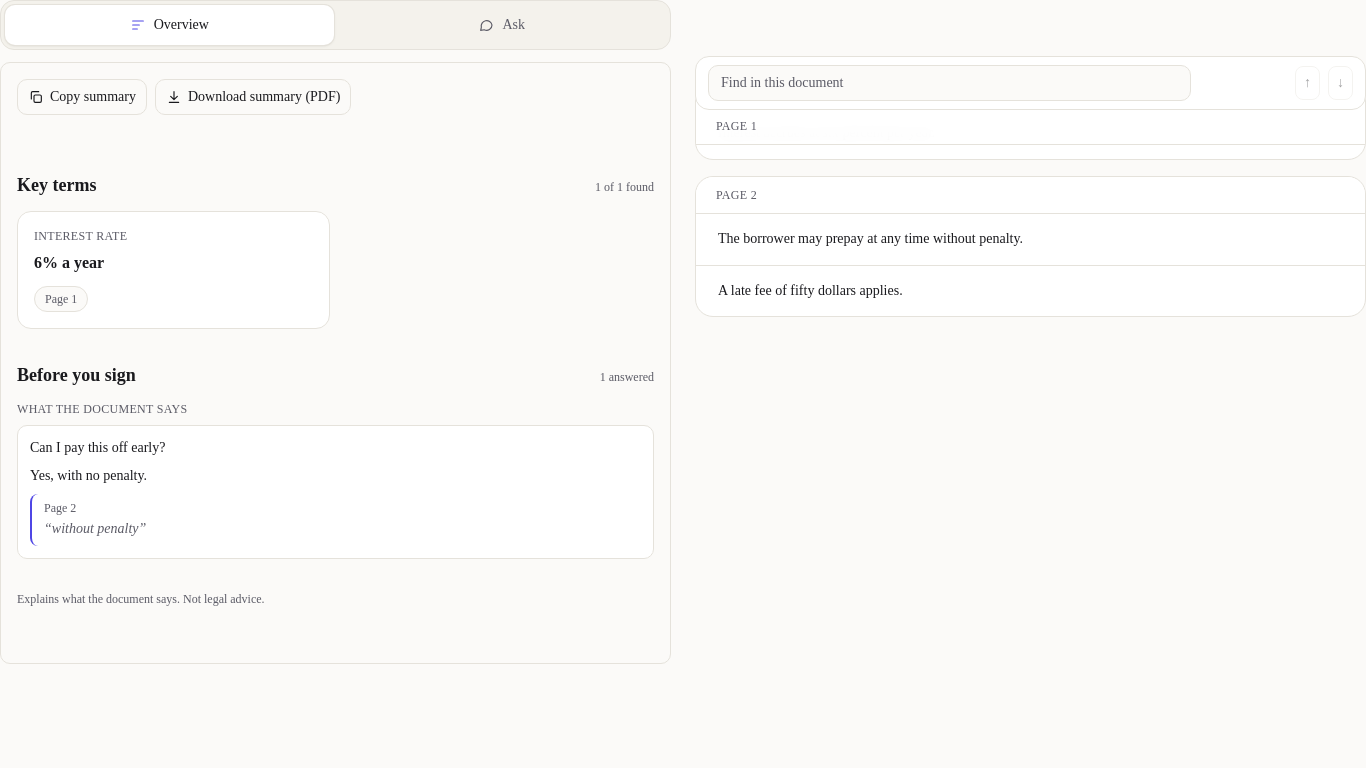
Scenario: DocumentWorkspace tabs › switches to the chat when Ask is chosen, and back
Click the tab "Ask". click: (502, 25)
box: [338,5,666,45]
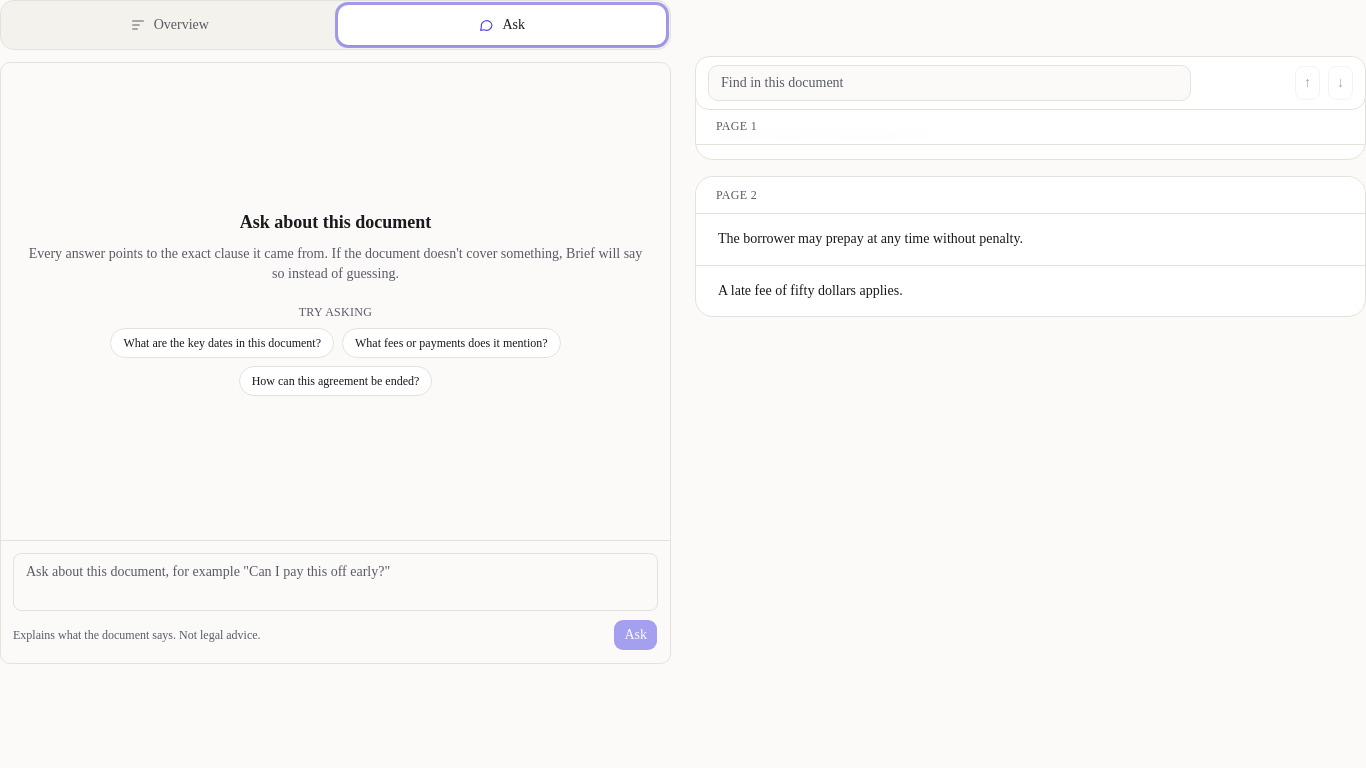
Expected: the text box named "Your question" is shown, [13,553,658,611]
Click the tab "Overview". click: (169, 25)
box: [5,5,334,45]
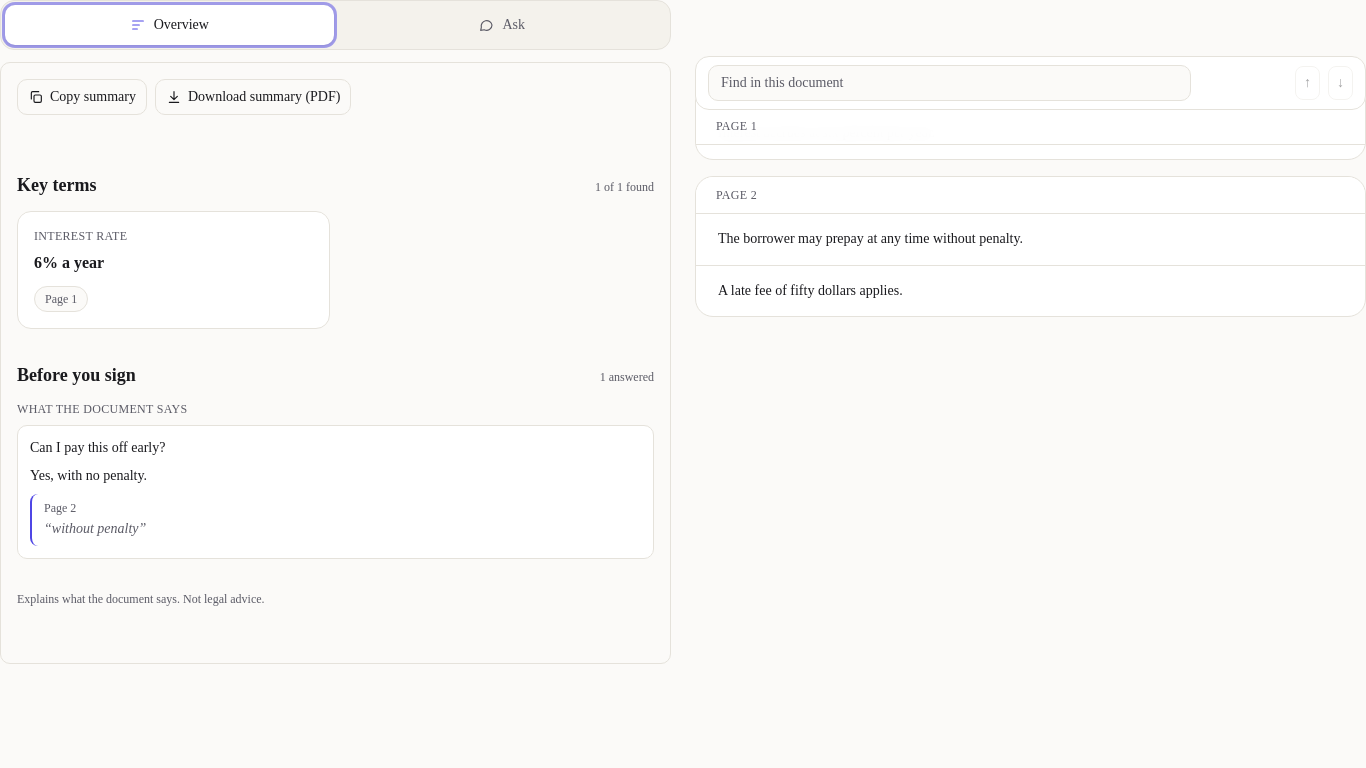
Expected: the element named "Overview" is shown, [0,62,671,664]
